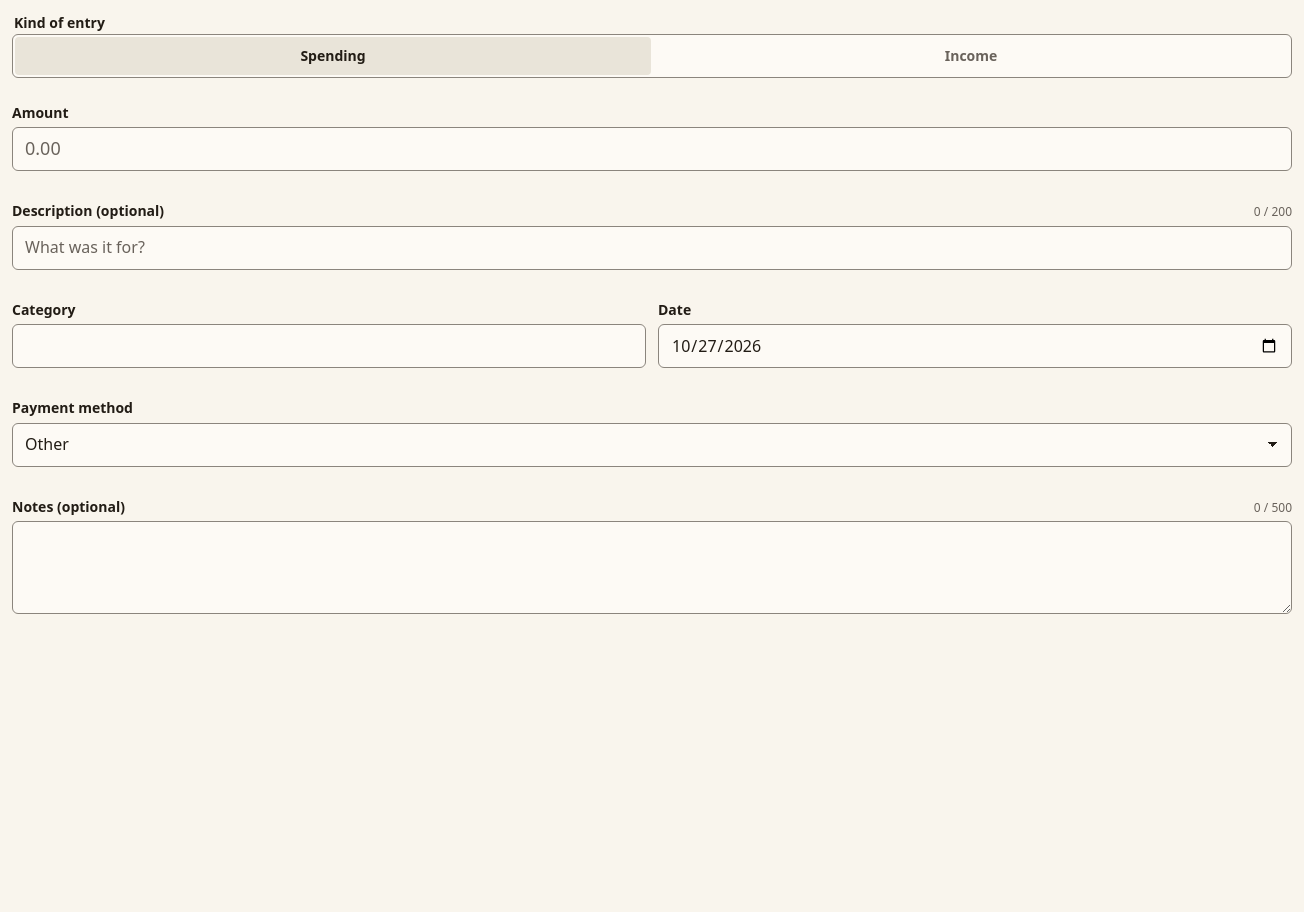
Test: transaction form validation › reports every invalid field and does not submit
In the field labelled "Amount": (652, 149) left=12, top=127, right=1292, bottom=171, type "-5"
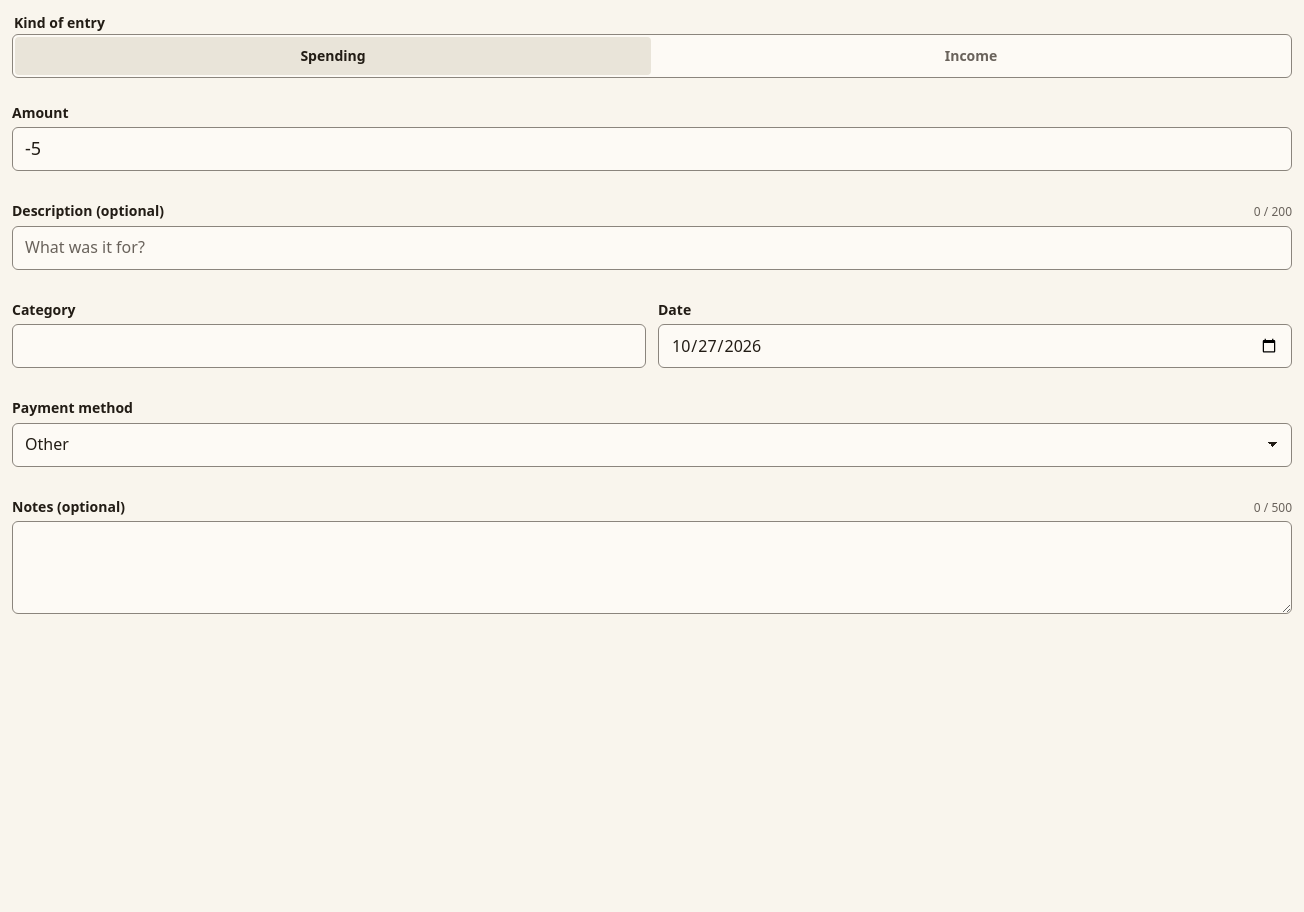
Submit the form labelled "Amount"
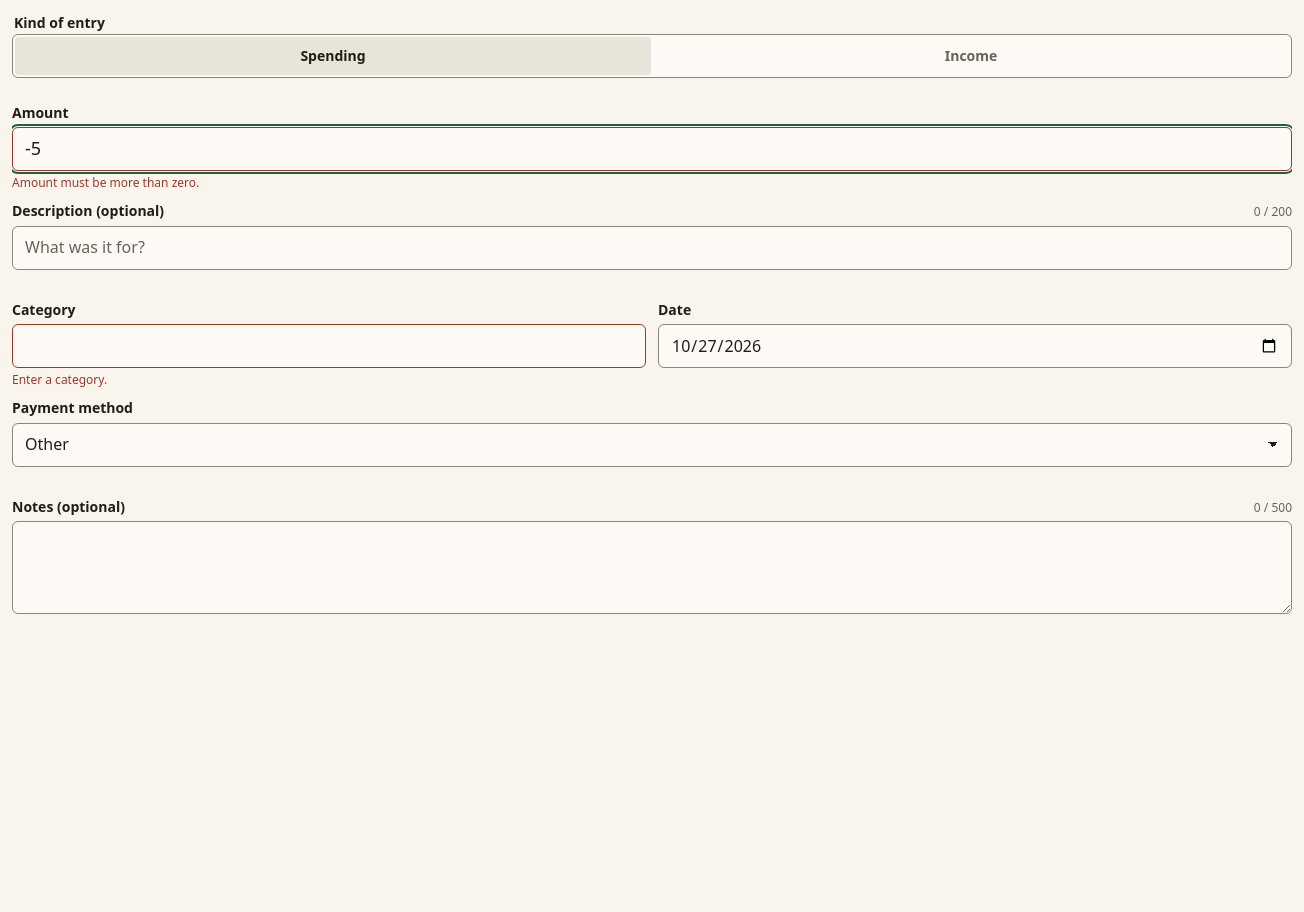
Expected: the text "Amount must be more than zero." is shown, left=12, top=174, right=199, bottom=191
Expected: the text "Enter a category." is shown, left=12, top=371, right=107, bottom=388
